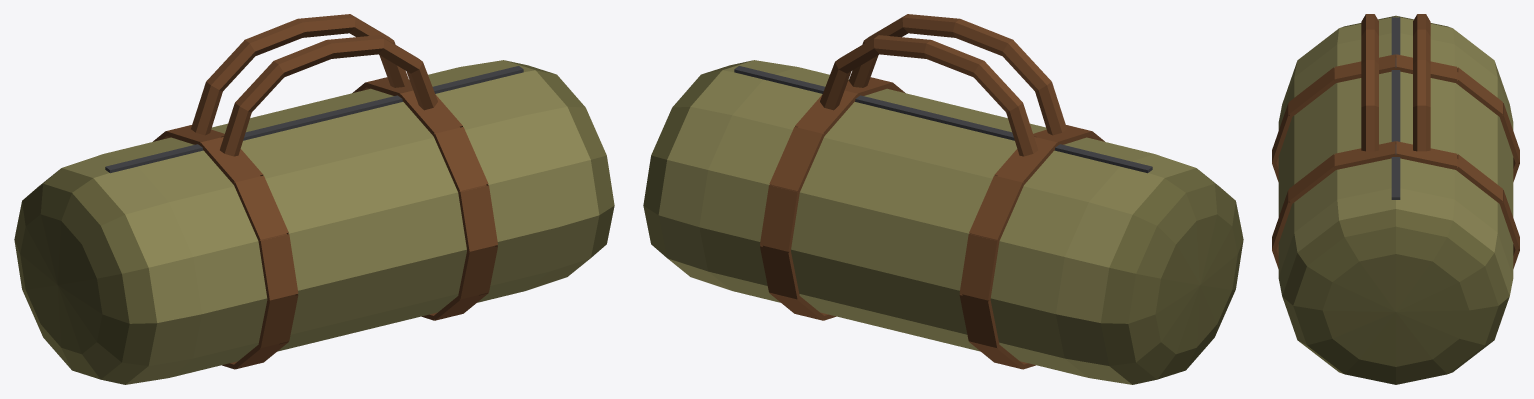
Rendered from item-duffel.glb.
3 renders of one model, left to right at view 1: azimuth 30°, elevation 25°; view 2: azimuth 150°, elevation 25°; view 3: azimuth 270°, elevation 25°, orthographic. The views are drawn at different scales.
Parts seen in each view (by area): view 1: duffel; view 2: duffel; view 3: duffel.
Boxes of the visible parts, x1,y1,x2,y2 form: duffel: (14,14,614,384); duffel: (643,14,1243,384); duffel: (1272,14,1519,384).
Size of the model in its own units: 0.72 by 0.4013 by 0.3377.
